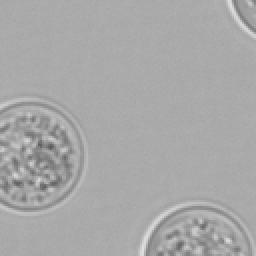picoshell: (0, 96, 86, 214), (138, 200, 254, 254), (224, 0, 254, 38)
